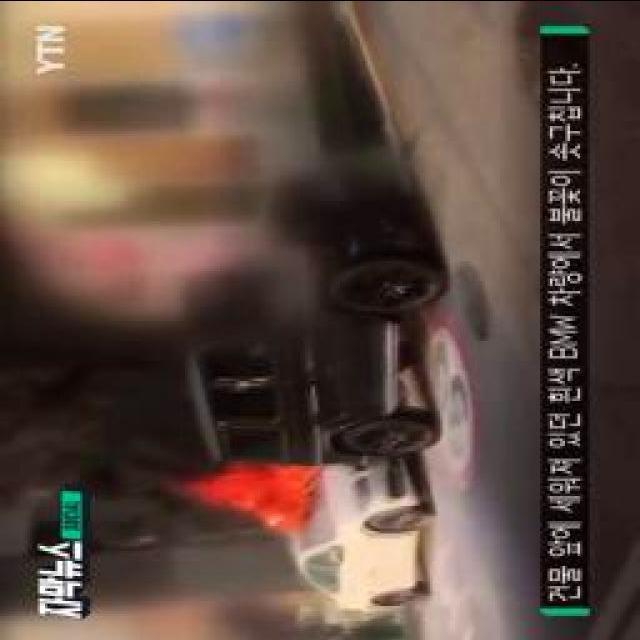Fire: (231, 466, 305, 524)
